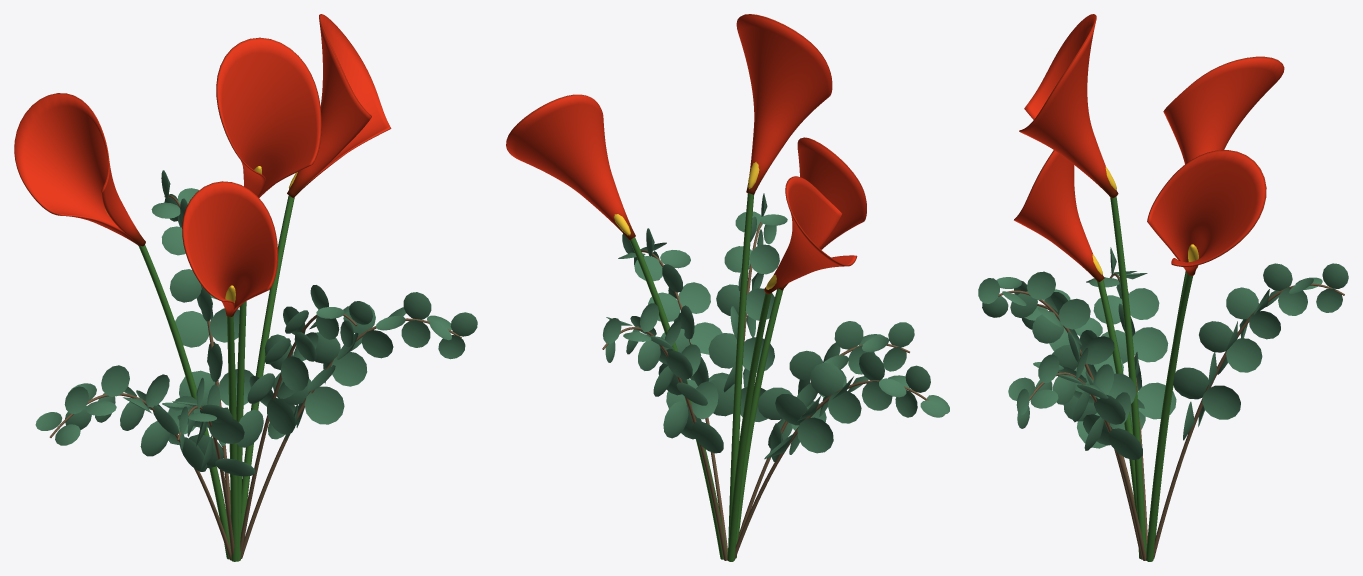
Rendered from flowers-bright.glb.
3 views of the same model, side by side, from view 1: azimuth 30°, elevation 25°; view 2: azimuth 150°, elevation 25°; view 3: azimuth 270°, elevation 25° (orthographic). The views are drawn at different scales.
Parts seen in each view (by area): view 1: Flowers; view 2: Flowers; view 3: Flowers.
Part boxes in pixels (x1=…): Flowers: x1=14, y1=14, x2=477, y2=561; Flowers: x1=506, y1=14, x2=949, y2=561; Flowers: x1=978, y1=14, x2=1348, y2=561.
Size of the model in its own units: 0.3309 by 0.4405 by 0.2769.
5 materials, 1 textured.
